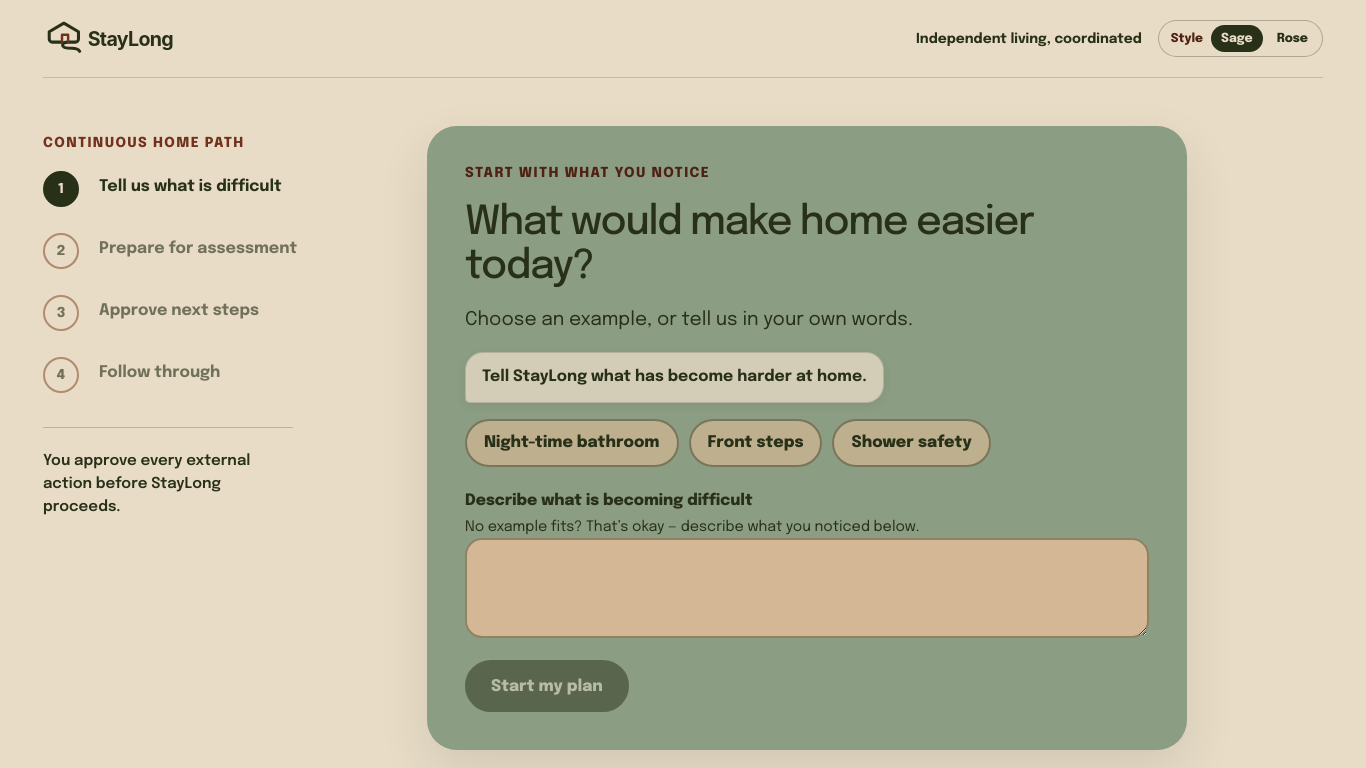
it: StayLong Continuous Home Path › keeps a consent field aligned with the accepted supporter-choice UI
The width and height of the screenshot is (1366, 768).
Type "Getting to the bathroom at night is difficult." into the text box labelled "Describe what is becoming difficult" at (807, 588), box [465, 538, 1149, 638]
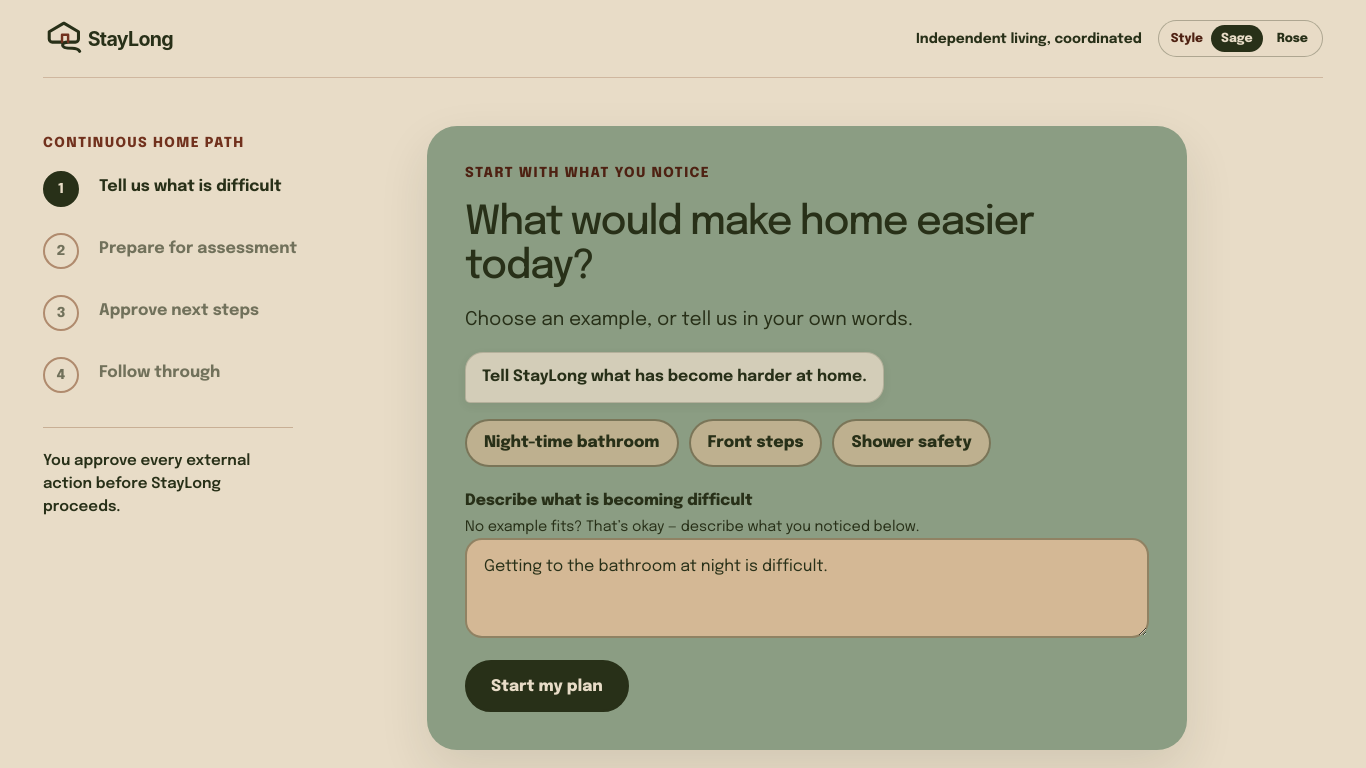
Click the button "Start my plan" at (547, 686), box [465, 660, 629, 712]
(page scrolled)
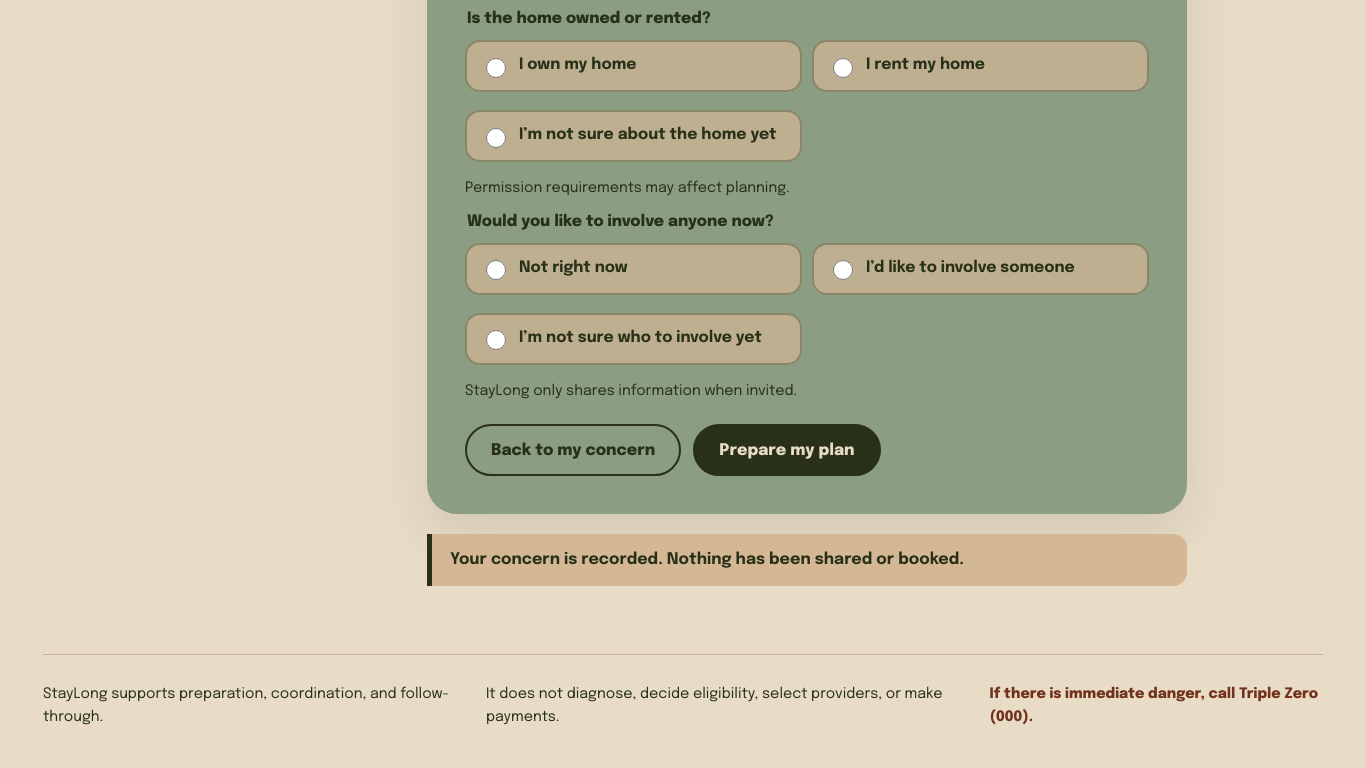
Now the element "Would you like to involve anyone now?" is shown, box [465, 212, 1149, 402]
Now the radio button labelled "Not right now" is shown, box [486, 260, 506, 280]
Now the radio button labelled "I’d like to involve someone" is shown, box [833, 260, 853, 280]
